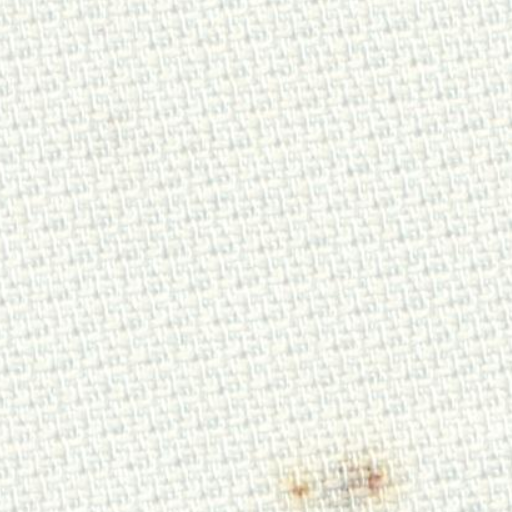WuZi: (256, 422, 429, 506)
